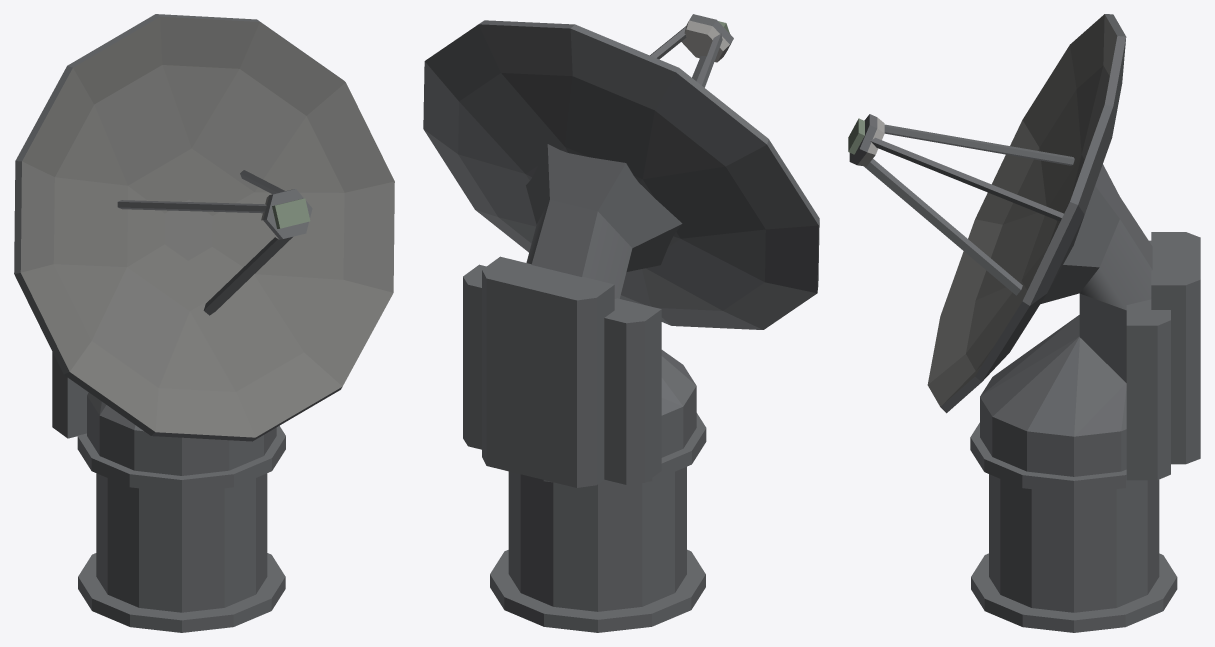
The model's file is SM_Prop_Mobile_Radar_01_Top.glb.
The picture shows the model from 3 angles, left to right: view 1: azimuth 30°, elevation 25°; view 2: azimuth 150°, elevation 25°; view 3: azimuth 270°, elevation 25°; orthographic projection. The views are drawn at different scales.
Parts seen in each view (by area): view 1: SM_Prop_Mobile_Radar_01_Top; view 2: SM_Prop_Mobile_Radar_01_Top; view 3: SM_Prop_Mobile_Radar_01_Top.
Boxes of the visible parts, left/top/right/bottom form: SM_Prop_Mobile_Radar_01_Top: left=14, top=14, right=394, bottom=632; SM_Prop_Mobile_Radar_01_Top: left=423, top=14, right=819, bottom=632; SM_Prop_Mobile_Radar_01_Top: left=848, top=14, right=1200, bottom=632.
Size of the model in its own units: 1.33 by 1.86 by 1.07.
Materials: 1 (1 with a texture image).
